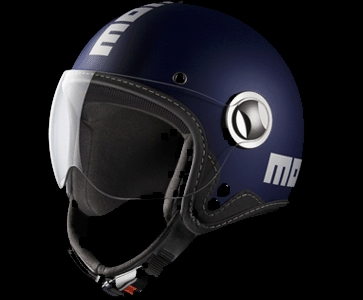helmet: (54, 6, 304, 230)
